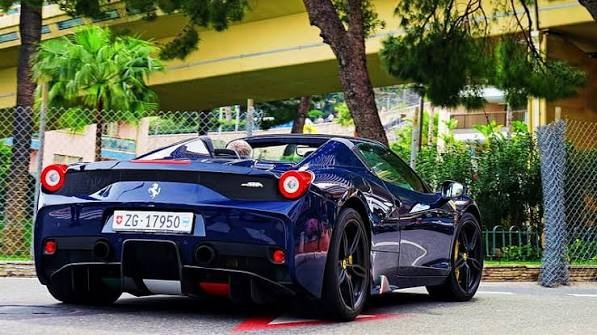car: (19, 130, 475, 321), (23, 135, 477, 318), (210, 129, 468, 217), (167, 132, 448, 195)
